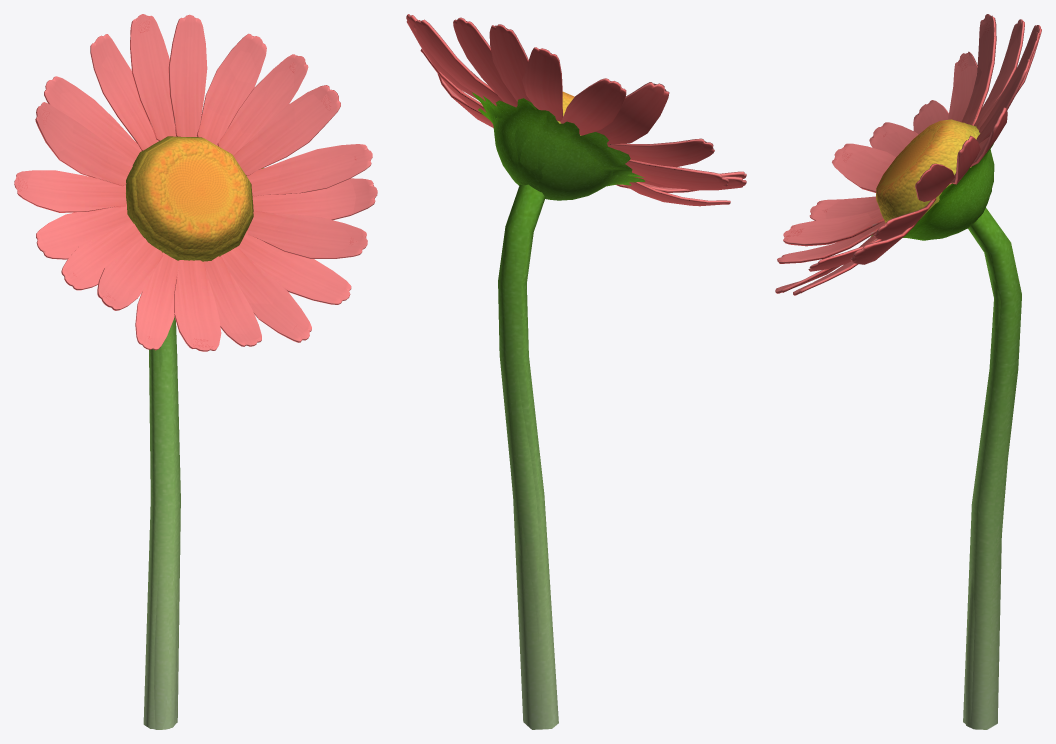
File: POI_Flower_l_Lod0.fbx
3 views of the same model, side by side, from view 1: azimuth 30°, elevation 25°; view 2: azimuth 150°, elevation 25°; view 3: azimuth 270°, elevation 25° (orthographic). The views are drawn at different scales.
Parts seen in each view (by area): view 1: mesh_Flower_l_petals, mesh_Flower_l_Lod1_3, mesh_Flower_l_Lod1_4, mesh_Flower_l_Lod1_1, mesh_Flower_l_stem, mesh_Flower_l_center; view 2: mesh_Flower_l_petals, mesh_Flower_l_Lod1_1, mesh_Flower_l_calyx, mesh_Flower_l_stem, mesh_Flower_l_Lod1_2; view 3: mesh_Flower_l_petals, mesh_Flower_l_Lod1_1, mesh_Flower_l_Lod1_3, mesh_Flower_l_Lod1_4, mesh_Flower_l_stem, mesh_Flower_l_calyx, mesh_Flower_l_Lod1_2, mesh_Flower_l_center.
Part boxes in pixels (x1,y1,x2,y2): mesh_Flower_l_petals: [14, 14, 377, 351]; mesh_Flower_l_Lod1_3: [14, 15, 375, 349]; mesh_Flower_l_Lod1_4: [126, 136, 253, 261]; mesh_Flower_l_Lod1_1: [143, 316, 180, 728]; mesh_Flower_l_stem: [150, 323, 177, 729]; mesh_Flower_l_center: [132, 137, 252, 255]; mesh_Flower_l_petals: [406, 14, 746, 206]; mesh_Flower_l_Lod1_1: [498, 184, 558, 729]; mesh_Flower_l_calyx: [472, 92, 645, 200]; mesh_Flower_l_stem: [500, 189, 544, 729]; mesh_Flower_l_Lod1_2: [474, 94, 643, 198]; mesh_Flower_l_petals: [775, 14, 1041, 295]; mesh_Flower_l_Lod1_1: [963, 208, 1021, 729]; mesh_Flower_l_Lod1_3: [779, 15, 1036, 284]; mesh_Flower_l_Lod1_4: [876, 119, 980, 222]; mesh_Flower_l_stem: [965, 219, 1018, 727]; mesh_Flower_l_calyx: [903, 143, 994, 240]; mesh_Flower_l_Lod1_2: [871, 150, 992, 240]; mesh_Flower_l_center: [880, 122, 969, 221].
Bounding box in the file's own units: 9.94 × 20.56 × 7.15.
